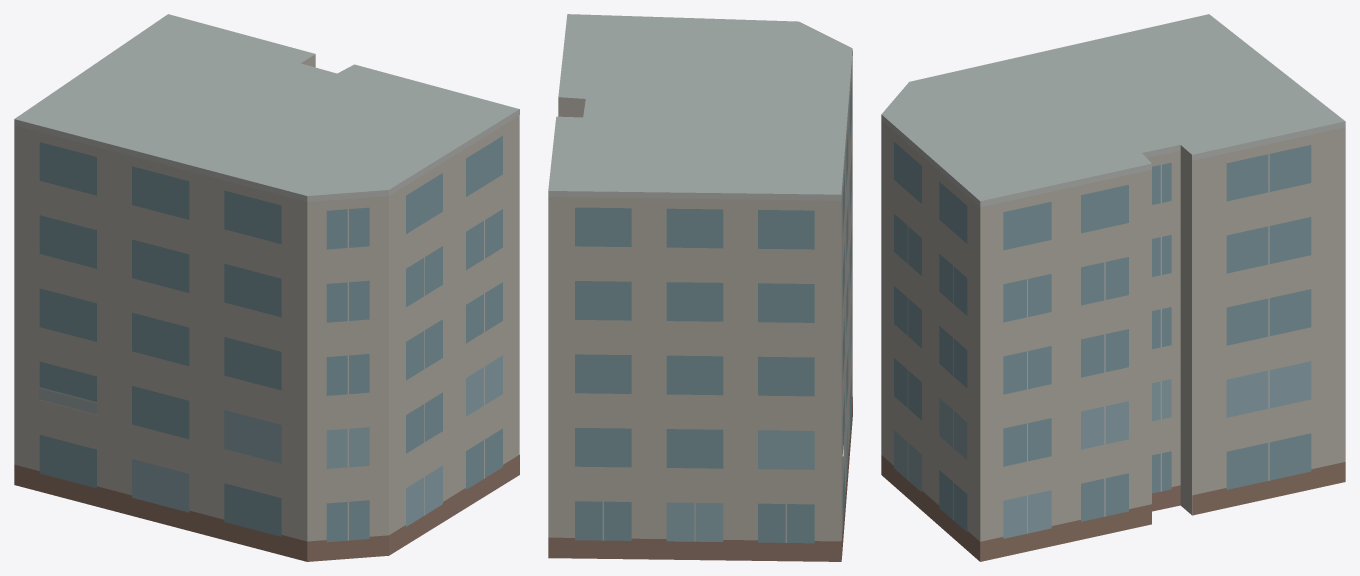
Rendered from survey-upis-32967129.glb.
3 views of the same model, side by side, from view 1: azimuth 30°, elevation 25°; view 2: azimuth 150°, elevation 25°; view 3: azimuth 270°, elevation 25° (orthographic).
Parts seen in each view (by area): view 1: survey-upis-32967129.tmp; view 2: survey-upis-32967129.tmp; view 3: survey-upis-32967129.tmp.
Part boxes in pixels (bbox=[...]): survey-upis-32967129.tmp: bbox=[14, 14, 519, 561]; survey-upis-32967129.tmp: bbox=[548, 14, 852, 561]; survey-upis-32967129.tmp: bbox=[881, 14, 1345, 561].
Bounding box in the file's own units: 16.49 × 14.8 × 17.27.
